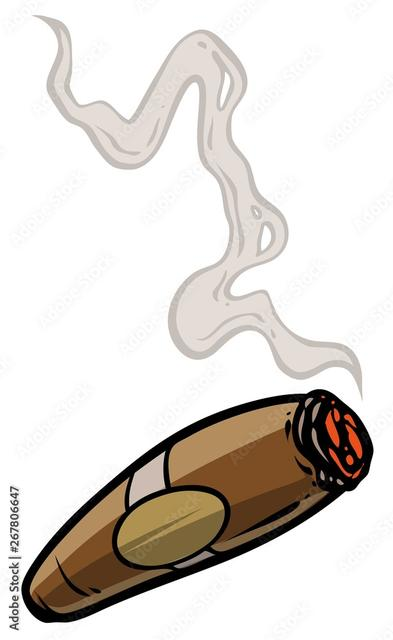Cigar: (20, 387, 374, 622)
